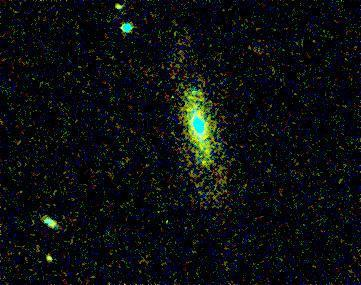star: (40, 244, 70, 274)
